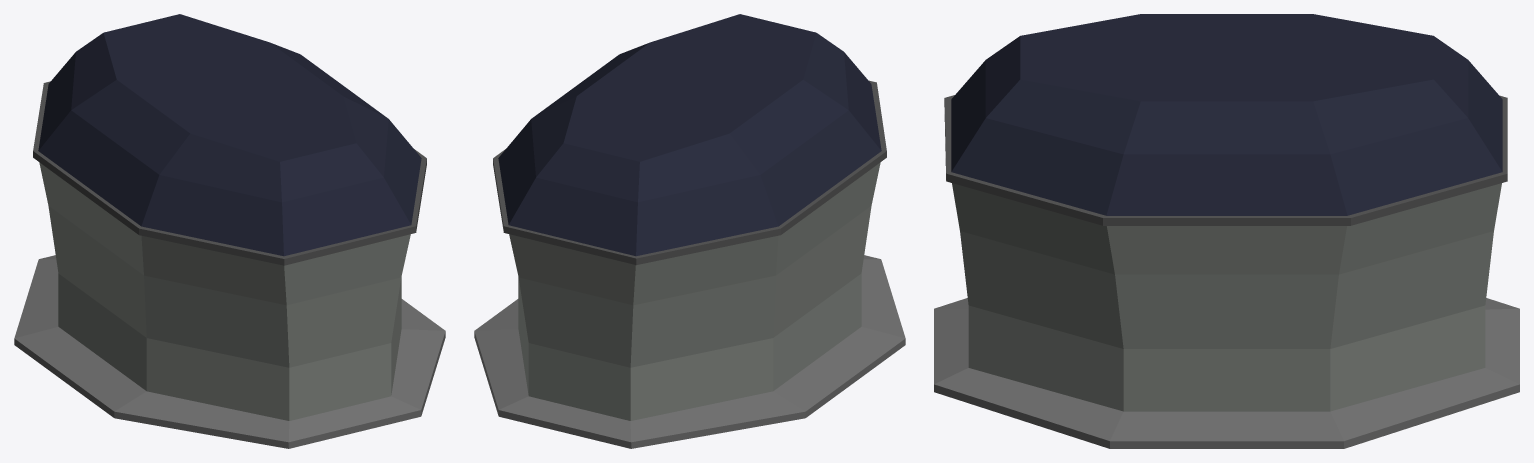
File: p-bld-background-7.glb
3 renders of one model, left to right at view 1: azimuth 30°, elevation 25°; view 2: azimuth 150°, elevation 25°; view 3: azimuth 270°, elevation 25°, orthographic. The views are drawn at different scales.
Parts seen in each view (by area): view 1: Cube; view 2: Cube; view 3: Cube.
Part boxes in pixels (x1=…): Cube: x1=14, y1=14, x2=445, y2=448; Cube: x1=474, y1=14, x2=905, y2=448; Cube: x1=934, y1=14, x2=1519, y2=448.
Size of the model in its own units: 26 by 19 by 34.
